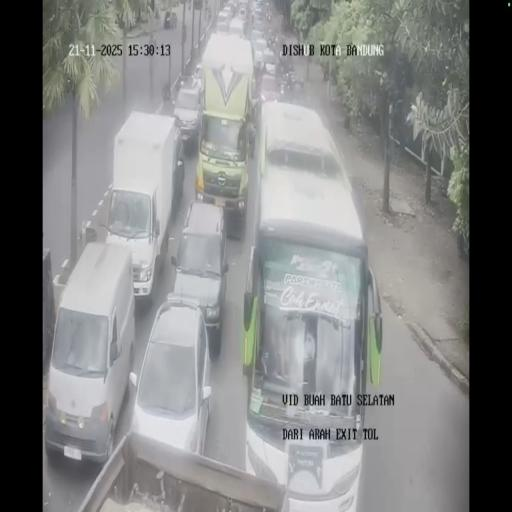car: (252, 3, 268, 31), (262, 48, 276, 76), (216, 16, 230, 33)
truck: (106, 112, 182, 302), (195, 30, 257, 222)
